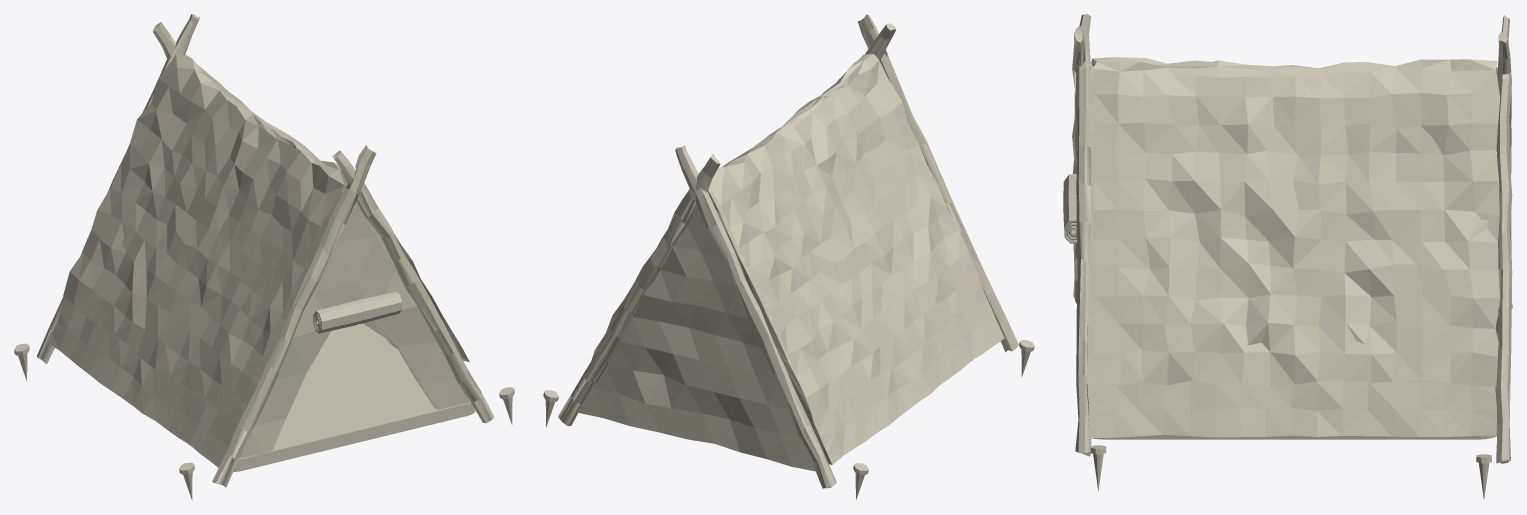
File: tents.glb
The picture shows the model from 3 angles, left to right: view 1: azimuth 30°, elevation 25°; view 2: azimuth 150°, elevation 25°; view 3: azimuth 270°, elevation 25°; orthographic projection. The views are drawn at different scales.
Parts seen in each view (by area): view 1: tents; view 2: tents; view 3: tents.
Part boxes in pixels (<box>): tents: <box>14,14,514,500</box>; tents: <box>543,14,1034,499</box>; tents: <box>1063,14,1512,500</box>.
Bounding box in the file's own units: 2.1 × 2 × 2.1.
